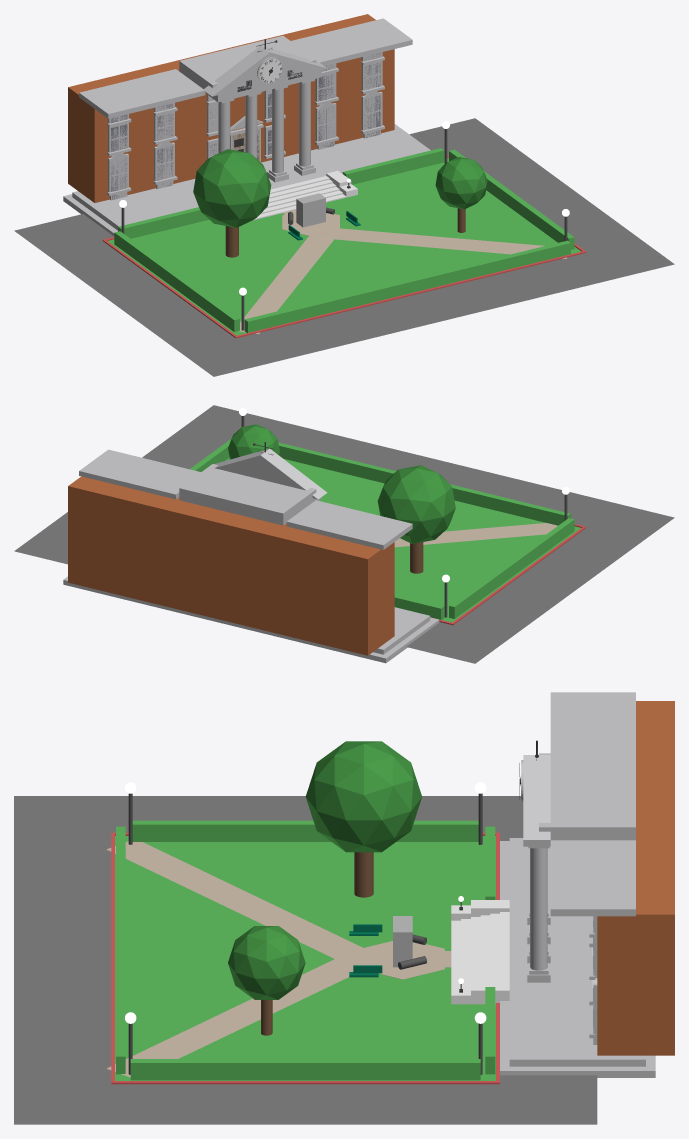
File: clock_tower.glb
3 views of the same model, one above another, from view 1: azimuth 30°, elevation 25°; view 2: azimuth 150°, elevation 25°; view 3: azimuth 270°, elevation 25° (orthographic). The views are drawn at different scales.
Parts seen in each view (by area): view 1: Road, Park_Grass, Wall_Left, Base2, Cube.010, Icosphere, Wall_Right, Wall_Center, Cornice_Left, Cornice_Right, Path_Diag_R, Path_Diag_L (+23 smaller); view 2: Road, Wall_Left, Wall_Center, Wall_Right, Park_Grass, Roof_Center, Icosphere, Cube.010, Cornice_Left, Cornice_Right, Cube.011, Pediment (+8 smaller); view 3: Road, Park_Grass, Wall_Right, Base2, Icosphere, Roof_Center, Cube.012, Cornice_Right, Cube.011, Path_Diag_L, Cornice_Left, Path_Diag_R (+22 smaller).
Part boxes in pixels (bbox=[...]): Road: bbox=[14, 118, 674, 376]; Park_Grass: bbox=[108, 157, 580, 335]; Wall_Left: bbox=[68, 64, 186, 202]; Base2: bbox=[72, 125, 429, 230]; Cube.010: bbox=[244, 240, 570, 332]; Icosphere: bbox=[193, 149, 271, 227]; Wall_Right: bbox=[276, 14, 394, 150]; Wall_Center: bbox=[161, 36, 298, 180]; Cornice_Left: bbox=[79, 69, 205, 118]; Cornice_Right: bbox=[291, 18, 412, 65]; Path_Diag_R: bbox=[323, 228, 567, 258]; Path_Diag_L: bbox=[238, 233, 333, 334]; Road: bbox=[14, 405, 674, 663]; Wall_Left: bbox=[275, 527, 394, 655]; Wall_Center: bbox=[160, 497, 288, 633]; Wall_Right: bbox=[68, 476, 172, 604]; Park_Grass: bbox=[225, 457, 580, 622]; Roof_Center: bbox=[179, 464, 316, 525]; Icosphere: bbox=[377, 465, 455, 543]; Cube.010: bbox=[278, 442, 570, 525]; Cornice_Left: bbox=[286, 500, 412, 549]; Cornice_Right: bbox=[79, 449, 200, 499]; Cube.011: bbox=[449, 518, 574, 618]; Pediment: bbox=[214, 448, 327, 499]; Road: bbox=[14, 796, 597, 1124]; Park_Grass: bbox=[115, 836, 495, 1080]; Wall_Right: bbox=[597, 849, 674, 1055]; Base2: bbox=[509, 838, 645, 1066]; Icosphere: bbox=[305, 741, 422, 852]; Roof_Center: bbox=[539, 753, 635, 844]; Cube.012: bbox=[130, 1059, 480, 1080]; Cornice_Right: bbox=[550, 840, 635, 916]; Cube.011: bbox=[132, 820, 478, 841]; Path_Diag_L: bbox=[106, 841, 362, 958]; Cornice_Left: bbox=[550, 692, 635, 753]; Path_Diag_R: bbox=[106, 955, 360, 1077].
Bounding box in the file's own units: 40 × 12.6 × 34.
